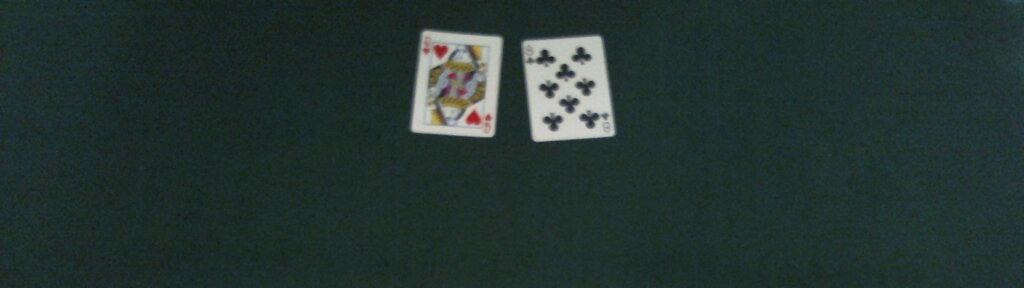eight: (519, 35, 616, 143)
queen: (410, 30, 505, 138)
